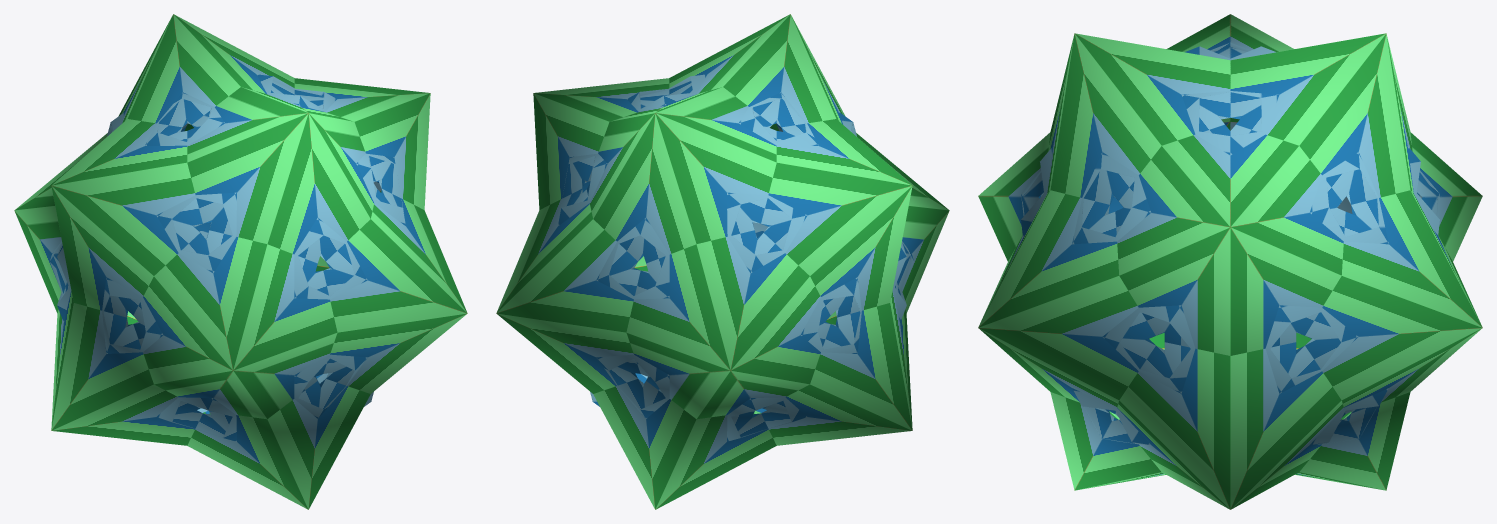
File: 26GreatDitrigonalDodecacronicHexecontahedron.gltf
3 views of the same model, side by side, from view 1: azimuth 30°, elevation 25°; view 2: azimuth 150°, elevation 25°; view 3: azimuth 270°, elevation 25° (orthographic). The views are drawn at different scales.
Visible parts, largest first — view 1: GreatDitrigonalDodecacronicHexecontahedron12; view 2: GreatDitrigonalDodecacronicHexecontahedron12; view 3: GreatDitrigonalDodecacronicHexecontahedron12.
Boxes of the visible parts, left/top/right/bottom form: GreatDitrigonalDodecacronicHexecontahedron12: left=14, top=14, right=467, bottom=509; GreatDitrigonalDodecacronicHexecontahedron12: left=496, top=14, right=949, bottom=509; GreatDitrigonalDodecacronicHexecontahedron12: left=978, top=14, right=1482, bottom=509.
Size of the model in its own units: 2.35 by 2.35 by 2.35.
Materials: 1 (1 with a texture image).
